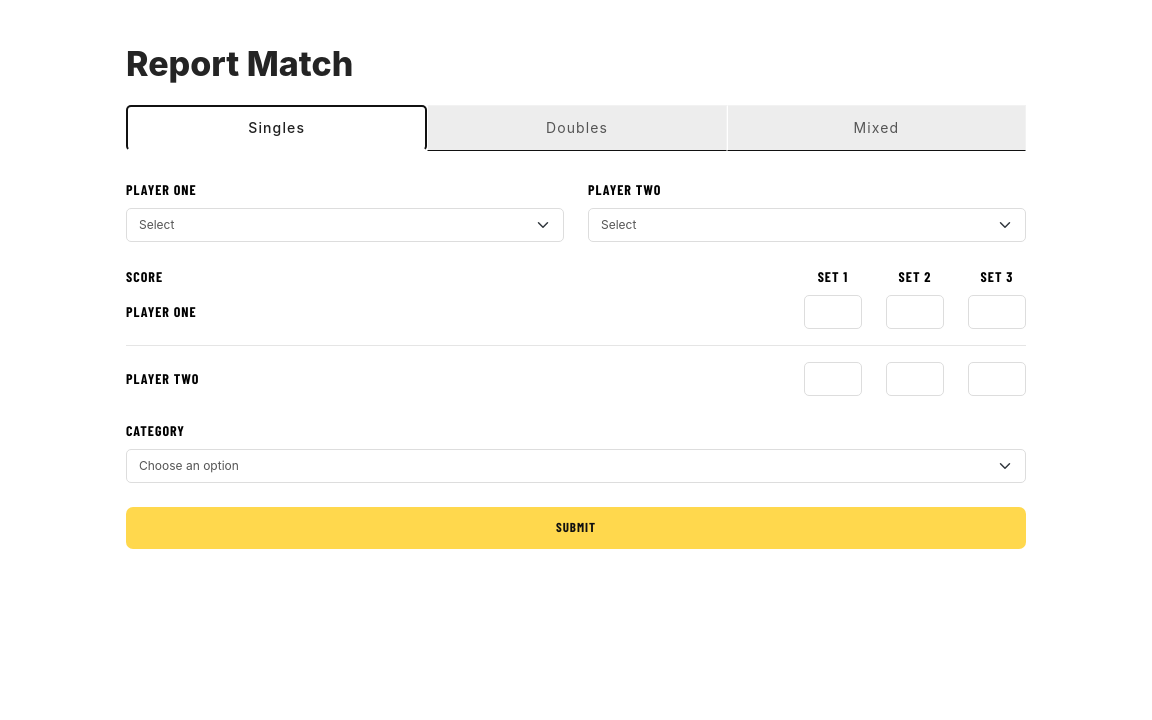
Test: report match tabs render as a segmented control and switch forms
expect the 1st text "PLAYER ONE" is shown: met, box [126,181,197,198]
What coordinates should you click on to do the following:
click the button "Doubles"
I would click on:
 (577, 128)
Its box is [427,105,727,151].
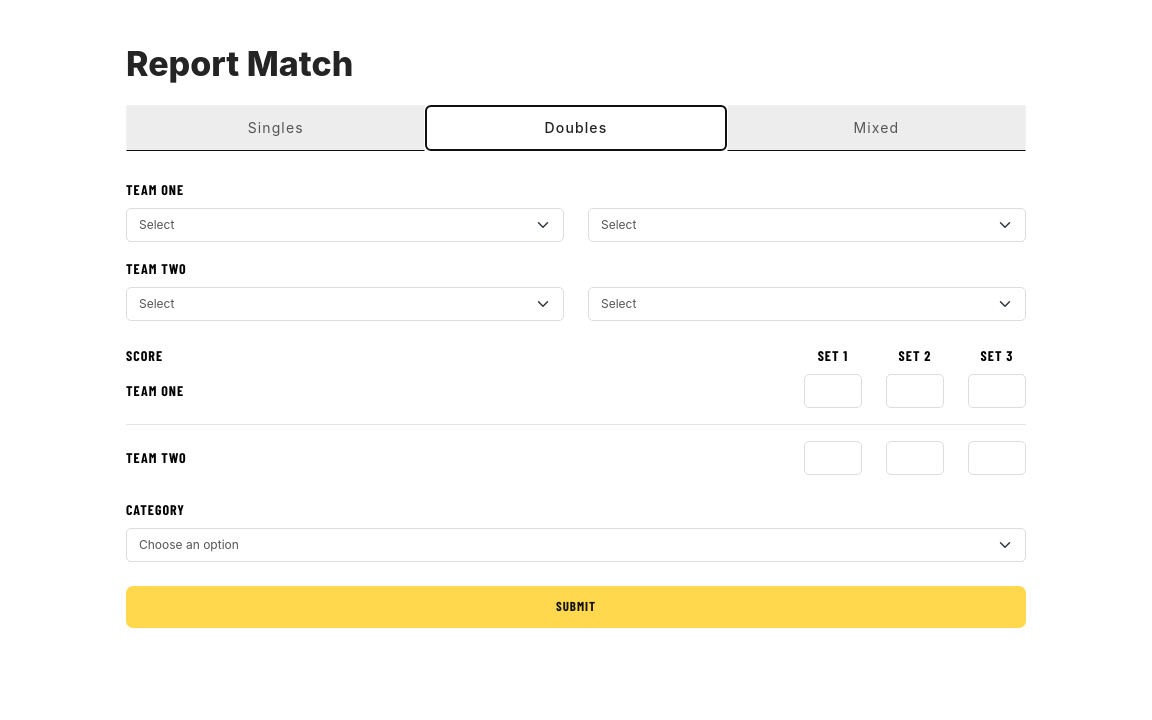
expect the 1st text "TEAM ONE" is shown: met, box [126,181,184,198]
What coordinates should you click on to do the following:
click the button "Mixed"
I would click on:
 (876, 128)
Its box is [727,105,1026,151].
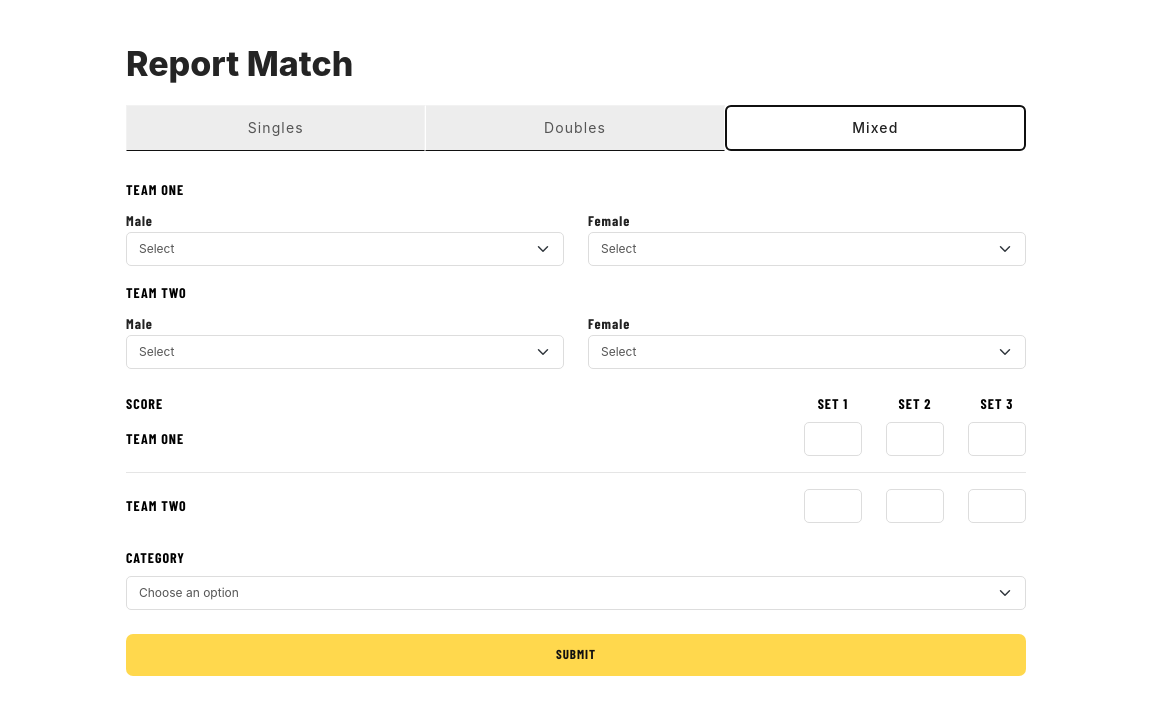
expect the 1st text "Male" is shown: met, box [126,210,153,231]
expect the 1st text "Female" is shown: met, box [588,210,630,231]
